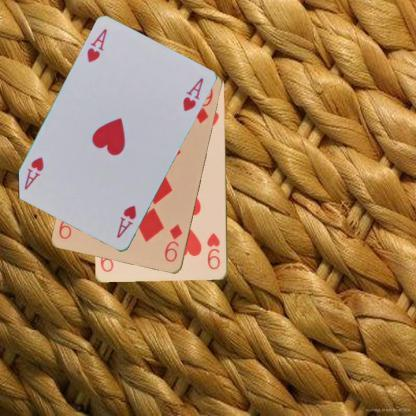9d: (162, 221, 184, 264)
9h: (204, 230, 222, 272)
Ah: (84, 26, 108, 64), (114, 203, 138, 240)
